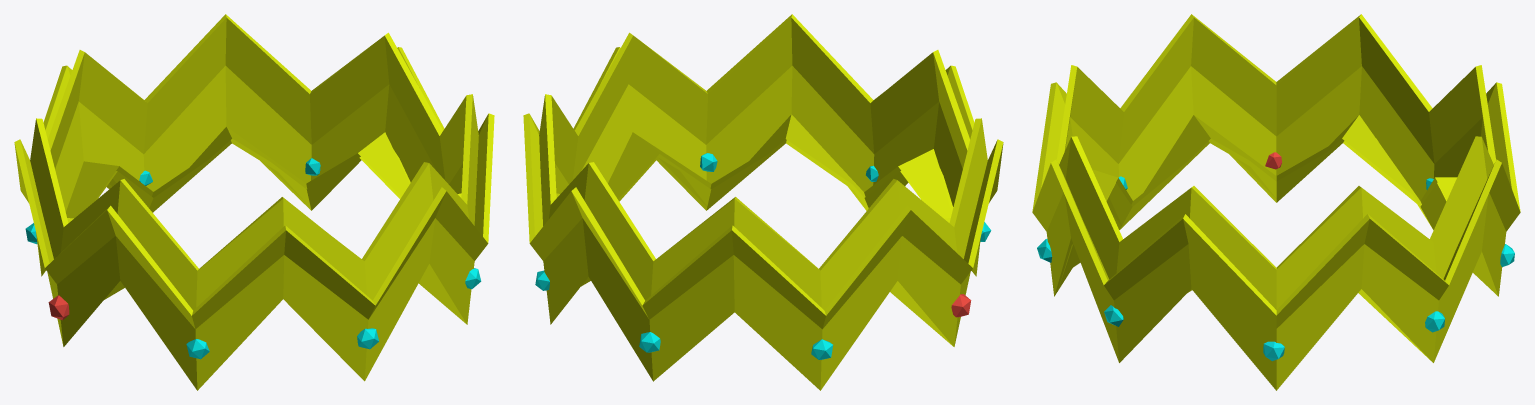
File: корона.fbx
3 views of the same model, side by side, from view 1: azimuth 30°, elevation 25°; view 2: azimuth 150°, elevation 25°; view 3: azimuth 270°, elevation 25° (orthographic).
Parts seen in each view (by area): view 1: Икосфера; view 2: Икосфера; view 3: Икосфера.
Boxes of the visible parts, x1,y1,x2,y2 form: Икосфера: (14,14,494,390); Икосфера: (523,14,1003,390); Икосфера: (1032,14,1520,390).
Size of the model in its own units: 253 by 112 by 253.
